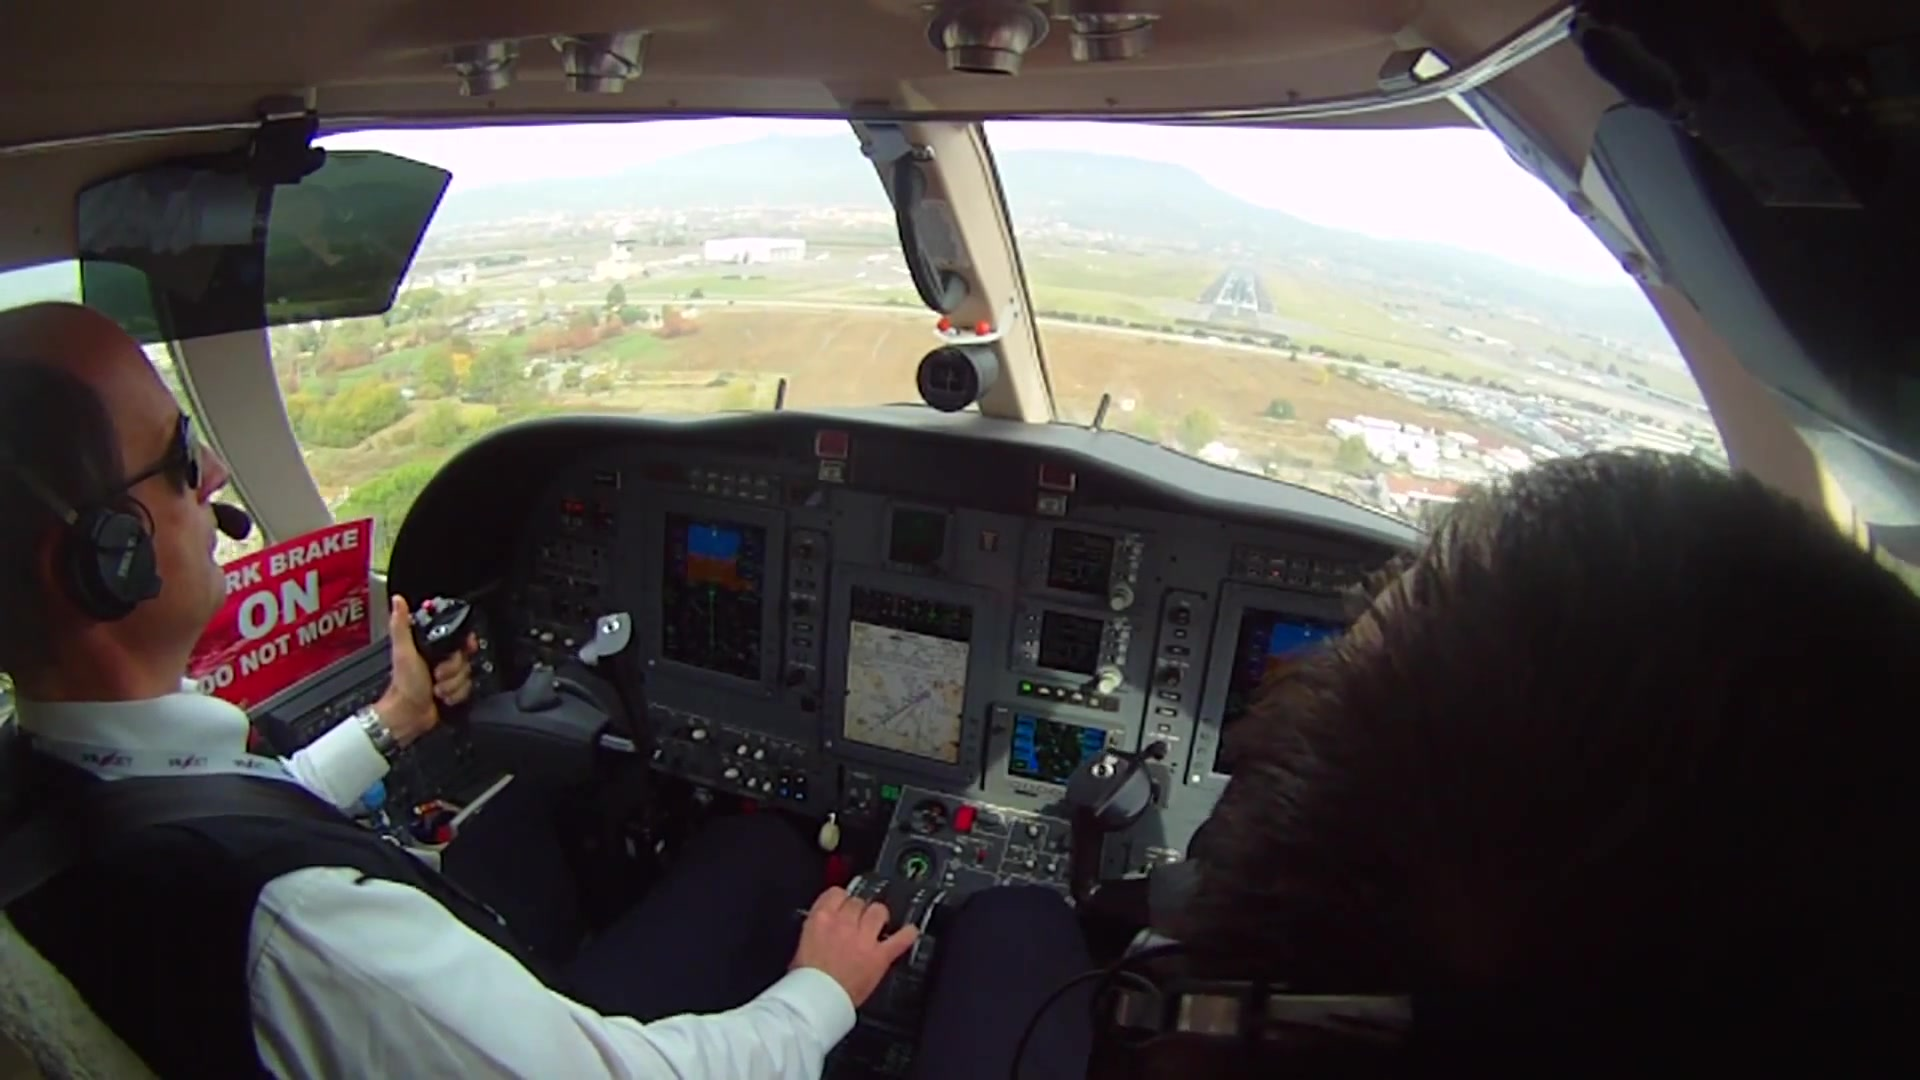entrance: (1216, 298, 1255, 309)
runway: (1215, 262, 1258, 310)
